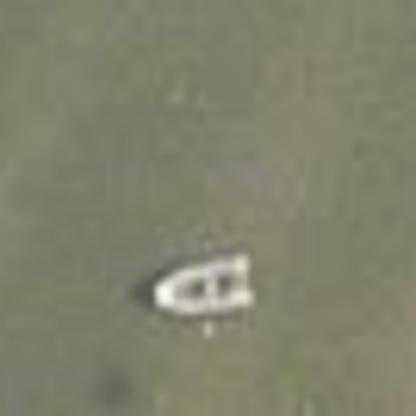ship: (124, 244, 273, 328)
